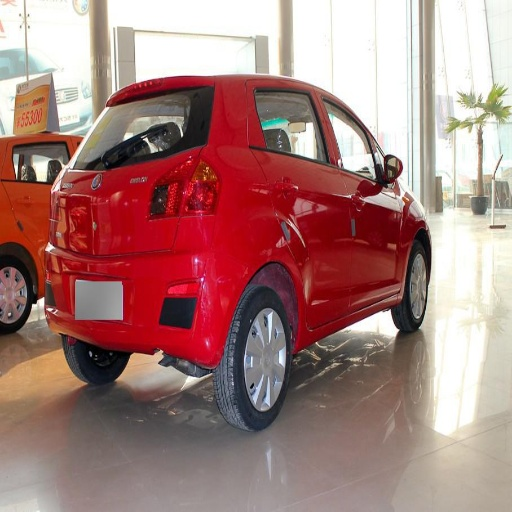back_bumper: (53, 257, 243, 360)
back_right_door: (249, 80, 352, 312)
trunk: (50, 161, 201, 285)
